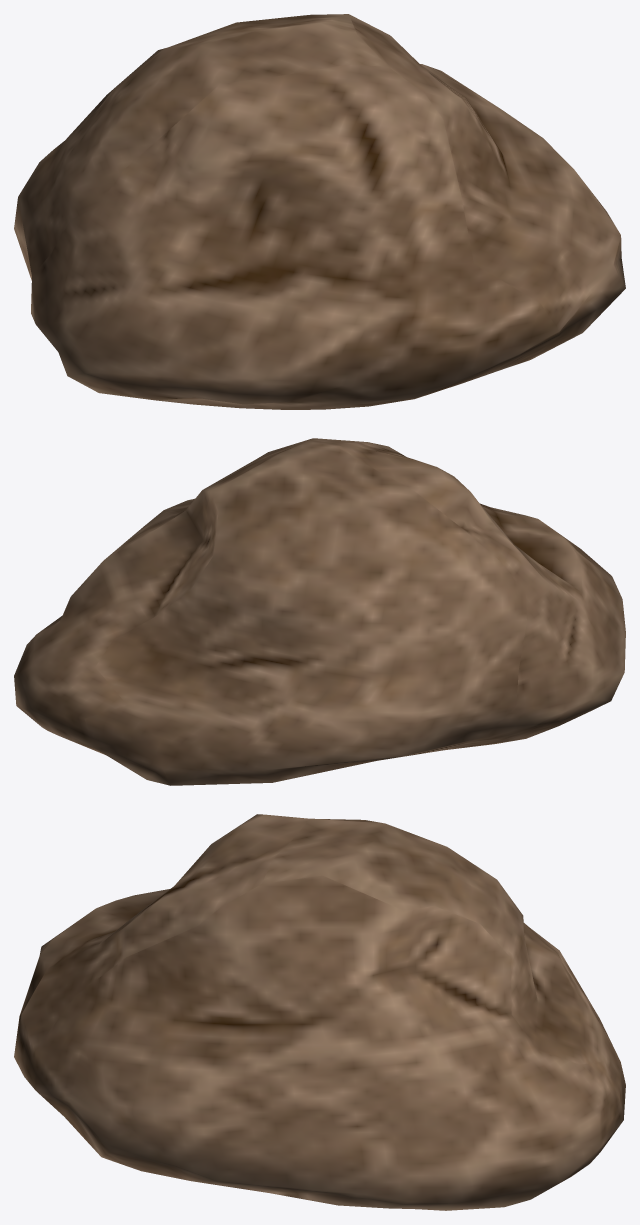
The model's file is sb_obj_nature006_Stone01b.fbx.
3 views of the same model, one above another, from view 1: azimuth 30°, elevation 25°; view 2: azimuth 150°, elevation 25°; view 3: azimuth 270°, elevation 25° (orthographic). The views are drawn at different scales.
Visible parts, largest first — view 1: sb_obj_nature006_Stone01b; view 2: sb_obj_nature006_Stone01b; view 3: sb_obj_nature006_Stone01b.
Part boxes in pixels (box(x1,y1,x2,y2)): sb_obj_nature006_Stone01b: box(14, 14, 625, 409); sb_obj_nature006_Stone01b: box(14, 438, 625, 785); sb_obj_nature006_Stone01b: box(14, 814, 625, 1210).
Size of the model in its own units: 0.6374 by 0.3119 by 0.6467.
